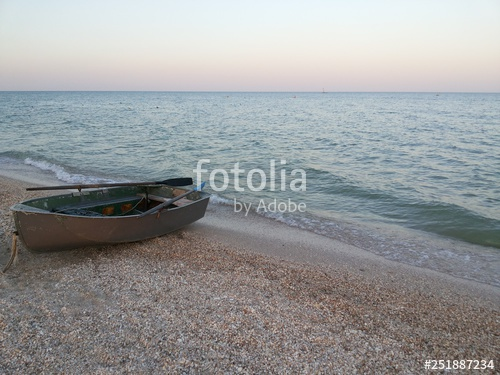boat_cabin: (6, 172, 214, 254)
